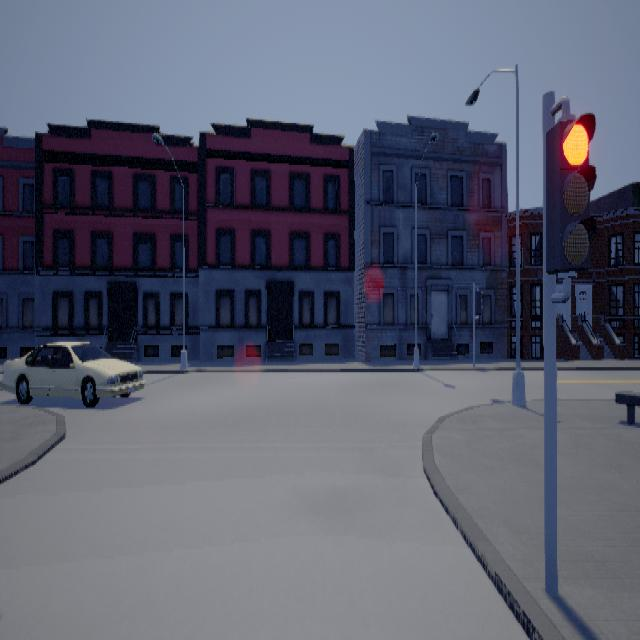red_light: (545, 95, 596, 302)
vehicle: (0, 340, 145, 406)
